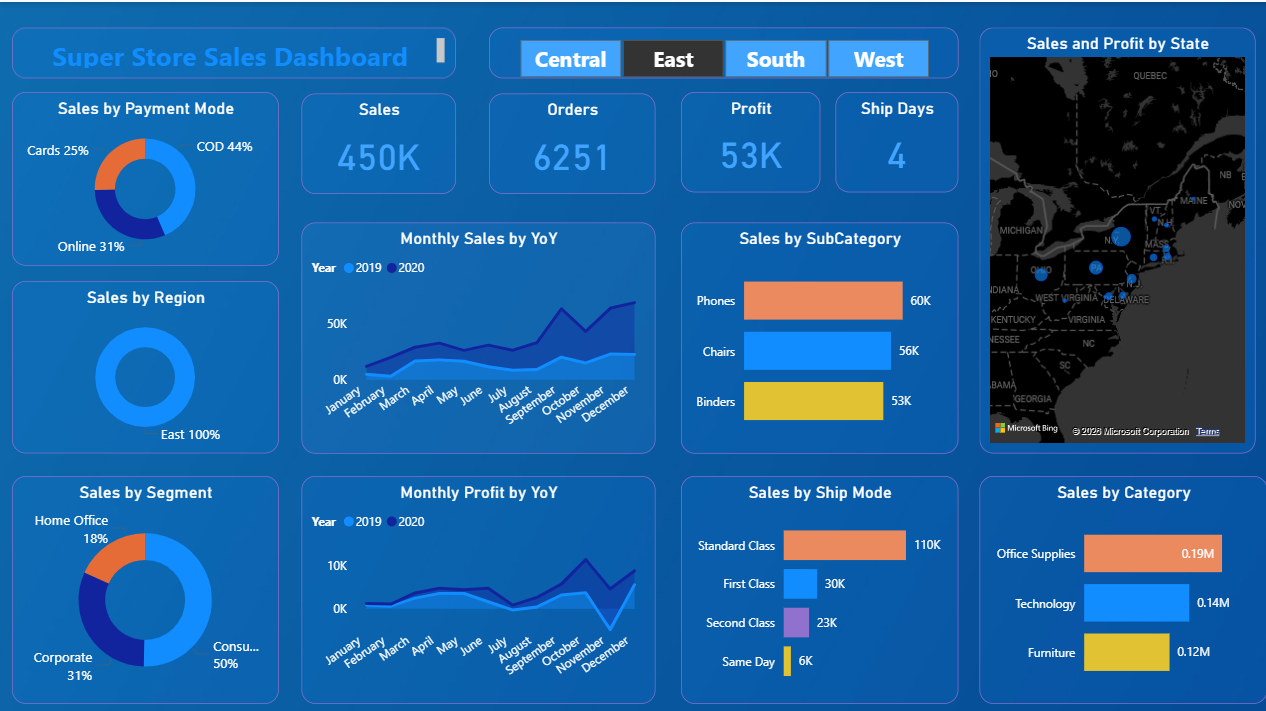

What the dashboard file says about the page in this screenshot:
{"tool":"powerbi","page":{"name":"Page 1","canvas":[1280,720],"ordinal":0},"visuals":[{"type":"clusteredBarChart","title":"Sales by Category","fields":{"Category":["SuperStore_Sales_Dataset.Category"],"Y":["Sum(SuperStore_Sales_Dataset.Sales)"]},"box":[988.8,478.5,290.7,230.2],"z":0},{"type":"clusteredBarChart","title":"Sales by SubCategory","fields":{"Category":["SuperStore_Sales_Dataset.Sub-Category"],"Y":["Sum(SuperStore_Sales_Dataset.Sales)"]},"box":[687.4,222.6,280.1,233.2],"z":1000},{"type":"clusteredBarChart","title":"Sales by Ship Mode","fields":{"Category":["SuperStore_Sales_Dataset.Ship Mode"],"Y":["Sum(SuperStore_Sales_Dataset.Sales)"]},"box":[687.4,478.5,280.1,230.2],"z":2000},{"type":"stackedAreaChart","title":"Monthly Sales by YoY","fields":{"Category":["SuperStore_Sales_Dataset.Order Date.Variation.Date Hierarchy.Month","SuperStore_Sales_Dataset.Order Date.Variation.Date Hierarchy.Day"],"Y":["Sum(SuperStore_Sales_Dataset.Sales)"],"Series":["SuperStore_Sales_Dataset.Order Date.Variation.Date Hierarchy.Year"]},"box":[304.4,222.6,357.4,233.2],"z":3000},{"type":"stackedAreaChart","title":"Monthly Profit by YoY","fields":{"Category":["SuperStore_Sales_Dataset.Order Date.Variation.Date Hierarchy.Month","SuperStore_Sales_Dataset.Order Date.Variation.Date Hierarchy.Day"],"Series":["SuperStore_Sales_Dataset.Order Date.Variation.Date Hierarchy.Year"],"Y":["Sum(SuperStore_Sales_Dataset.Profit)"]},"box":[304.4,478.5,357.4,230.2],"z":4000},{"type":"map","title":"Sales and Profit by State","fields":{"Category":["SuperStore_Sales_Dataset.State"],"Size":["Sum(SuperStore_Sales_Dataset.Sales)"]},"box":[988.8,25.7,278.6,430],"z":5000},{"type":"donutChart","title":"Sales by Segment","fields":{"Category":["SuperStore_Sales_Dataset.Segment"],"Y":["Sum(SuperStore_Sales_Dataset.Sales)"]},"box":[12.1,478.5,269.5,230.2],"z":6000},{"type":"donutChart","title":"Sales by Payment Mode","fields":{"Category":["SuperStore_Sales_Dataset.Payment Mode"],"Y":["Sum(SuperStore_Sales_Dataset.Sales)"]},"box":[12.1,90.9,269.5,175.6],"z":7000},{"type":"slicer","fields":{"Values":["SuperStore_Sales_Dataset.Region"]},"box":[493.6,25.7,473.9,51.5],"z":8000},{"type":"textbox","box":[12.1,25.7,448.2,51.5],"z":9000},{"type":"card","title":"Sales","fields":{"Values":["Sum(SuperStore_Sales_Dataset.Sales)"]},"box":[304.4,92.4,156,101.5],"z":10000},{"type":"card","title":"Orders","fields":{"Values":["Sum(SuperStore_Sales_Dataset.Quantity)"]},"box":[493.6,92.4,168.1,101.5],"z":11000},{"type":"card","title":"Profit","fields":{"Values":["Sum(SuperStore_Sales_Dataset.Profit)"]},"box":[687.4,90.9,140.8,101.5],"z":12000},{"type":"card","title":"Ship Days","fields":{"Values":["Avg(SuperStore_Sales_Dataset.AvgDelivery)"]},"box":[843.4,90.9,124.2,101.5],"z":13000},{"type":"donutChart","title":"Sales by Region","fields":{"Category":["SuperStore_Sales_Dataset.Region"],"Y":["Sum(SuperStore_Sales_Dataset.Sales)"]},"box":[12.1,281.6,269.5,174.1],"z":14000}]}

Visuals, with their boxes in screenshot pixels (x1, y1, x2, y2), scaled from the page's 1280x720 canvas onto the 1266x711 screenshot:
"Sales by Category" clusteredBarChart: bbox(978, 473, 1265, 700)
"Sales by SubCategory" clusteredBarChart: bbox(680, 220, 957, 450)
"Sales by Ship Mode" clusteredBarChart: bbox(680, 473, 957, 700)
"Monthly Sales by YoY" stackedAreaChart: bbox(301, 220, 655, 450)
"Monthly Profit by YoY" stackedAreaChart: bbox(301, 473, 655, 700)
"Sales and Profit by State" map: bbox(978, 25, 1254, 450)
"Sales by Segment" donutChart: bbox(12, 473, 279, 700)
"Sales by Payment Mode" donutChart: bbox(12, 90, 279, 263)
slicer - SuperStore_Sales_Dataset.Region: bbox(488, 25, 957, 76)
textbox: bbox(12, 25, 455, 76)
"Sales" card: bbox(301, 91, 455, 191)
"Orders" card: bbox(488, 91, 654, 191)
"Profit" card: bbox(680, 90, 819, 190)
"Ship Days" card: bbox(834, 90, 957, 190)
"Sales by Region" donutChart: bbox(12, 278, 279, 450)
